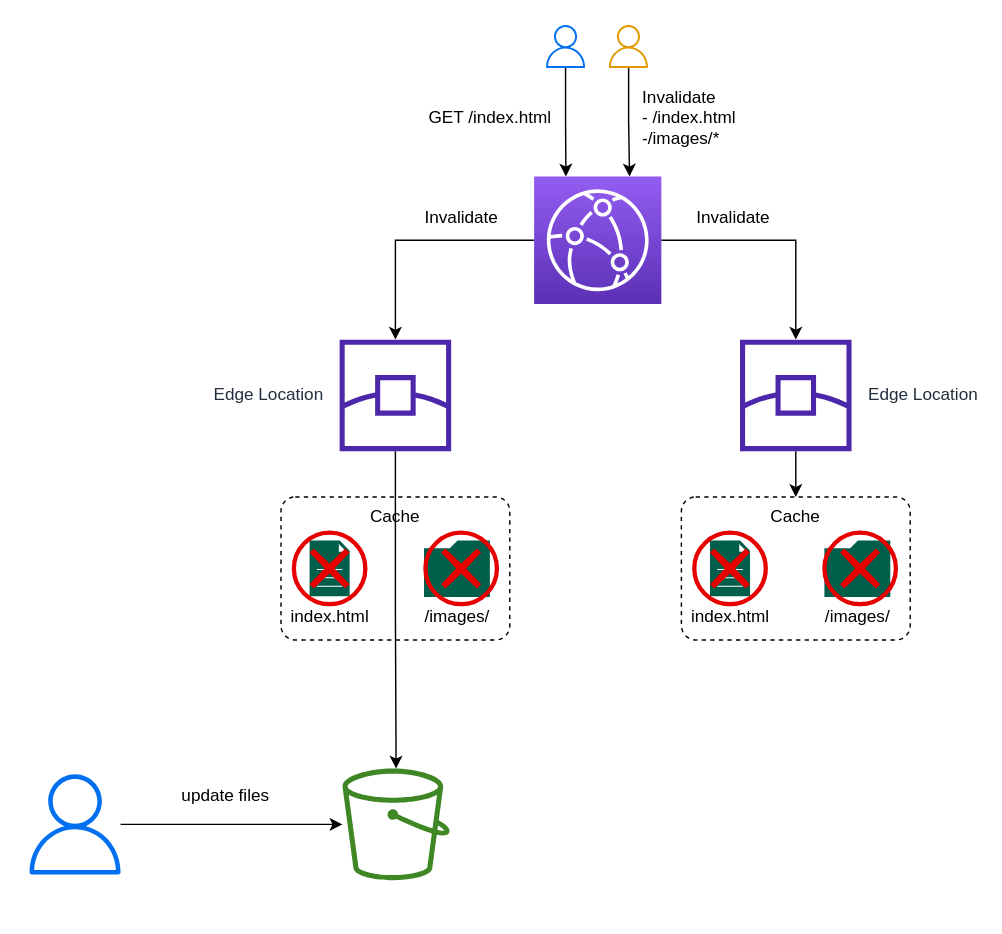
This 1002x934 diagram has some shape labels left out. Each missing label, with the centre of its shape:
CloudFront: point 597,239
S3 Bucket (origin): point 395,823
